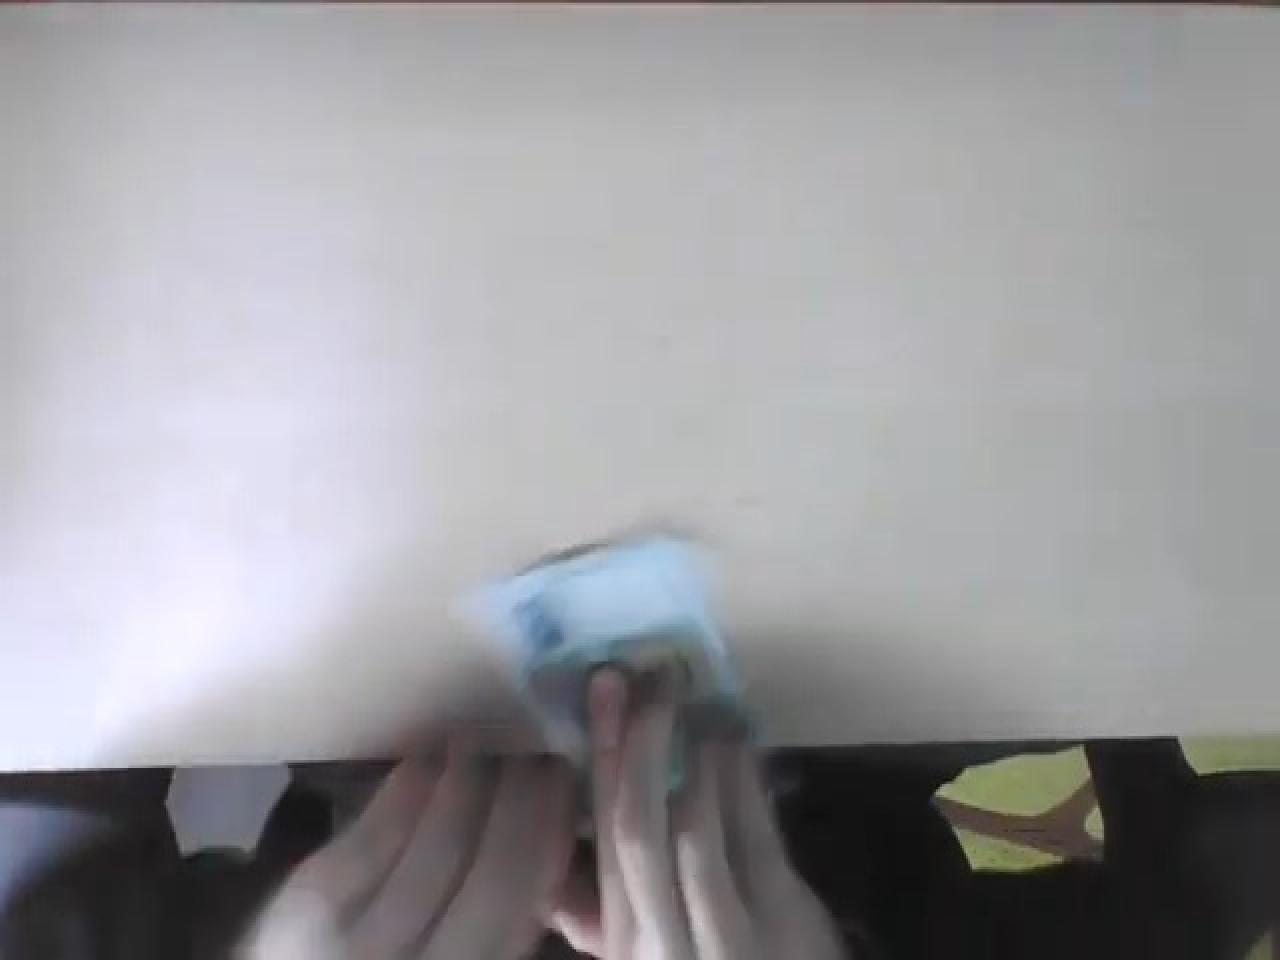100leva: (494, 533, 748, 792)
